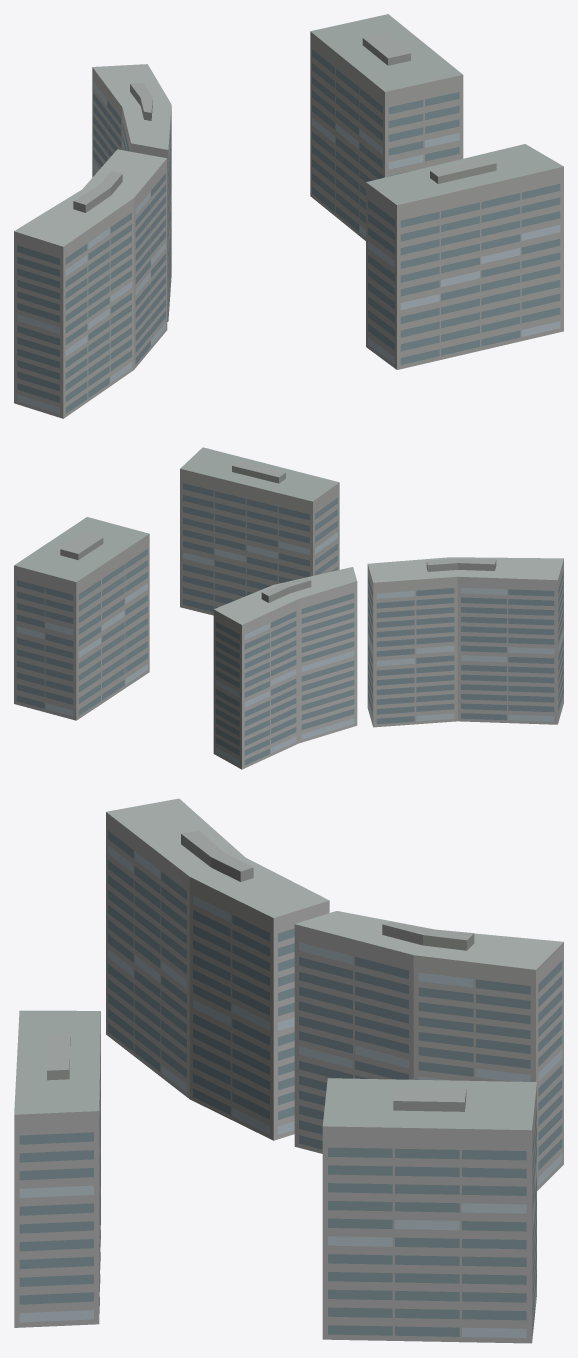
File: apt-a10025672.glb
3 renders of one model, top to bottom at view 1: azimuth 30°, elevation 25°; view 2: azimuth 150°, elevation 25°; view 3: azimuth 270°, elevation 25°, orthographic. The views are drawn at different scales.
Visible parts, largest first — view 1: apt-a10025672; view 2: apt-a10025672; view 3: apt-a10025672.
Boxes of the visible parts, x1,y1,x2,y2 form: apt-a10025672: (14,14,563,418); apt-a10025672: (14,447,563,769); apt-a10025672: (14,798,563,1343).
Bounding box in the file's own units: 119 × 40 × 85.54.
